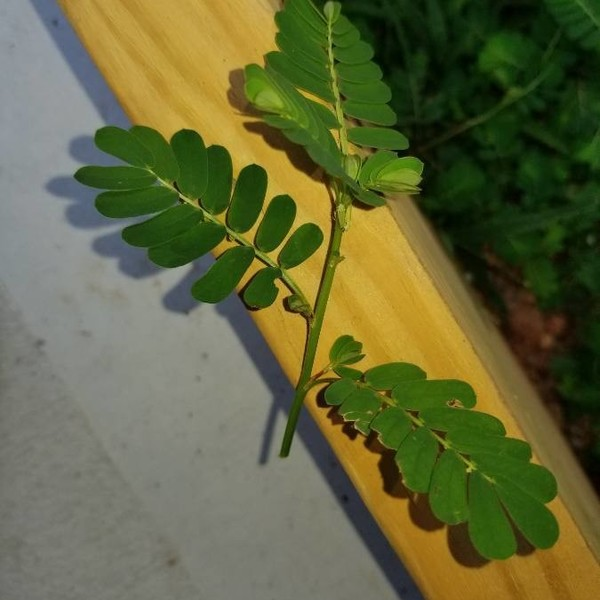obstacle: (41, 24, 568, 557)
